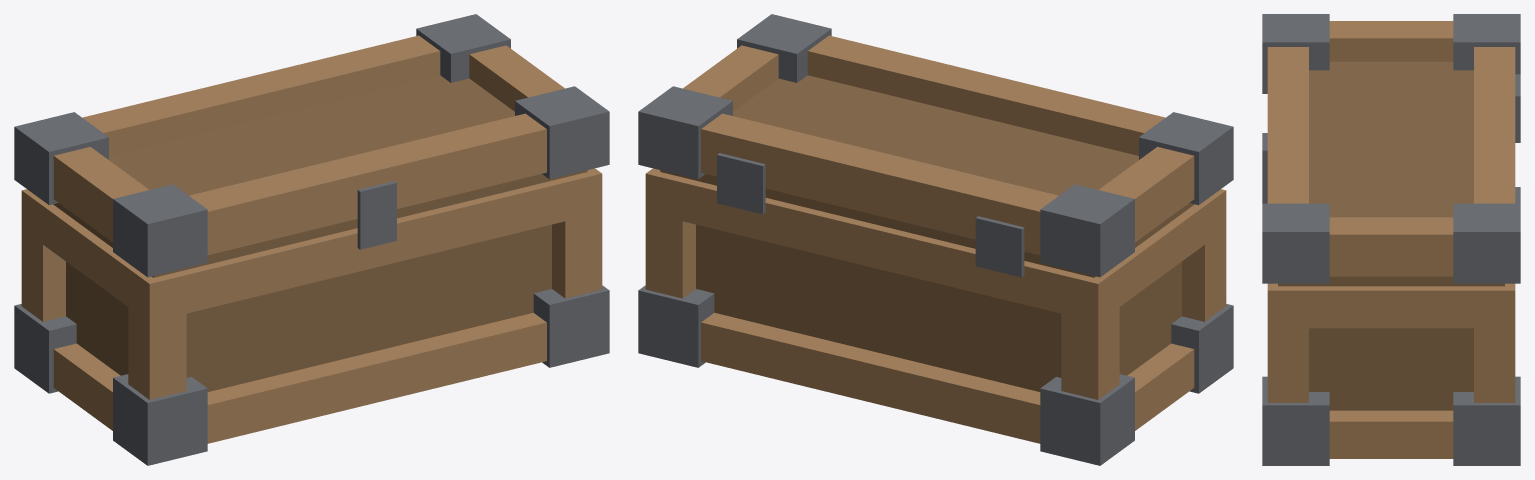
File: lid_box_01.glb
The picture shows the model from 3 angles, left to right: view 1: azimuth 30°, elevation 25°; view 2: azimuth 150°, elevation 25°; view 3: azimuth 270°, elevation 25°; orthographic projection. The views are drawn at different scales.
Parts seen in each view (by area): view 1: LidBox_01; view 2: LidBox_01; view 3: LidBox_01.
Part boxes in pixels (<box>): LidBox_01: <box>14,14,609,465</box>; LidBox_01: <box>638,14,1233,465</box>; LidBox_01: <box>1262,14,1520,465</box>.
Bounding box in the file's own units: 1 × 0.5001 × 0.5001.
